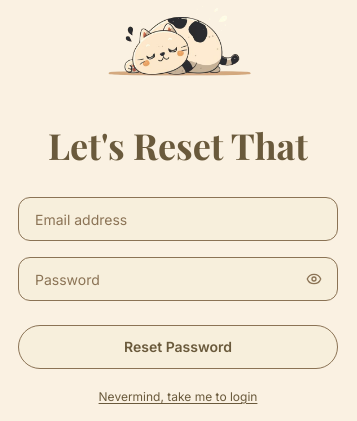
Test: AuthScreen — reset mode › submits email + new password to resetPassword and shows confirmation
The width and height of the screenshot is (357, 421).
Expected: the heading "Let's Reset That" is shown, [48,121,308,169]
Type "ada@example.com" into the field with placeholder "Email address". click: coordinates (178, 219)
box: [18,197,338,241]
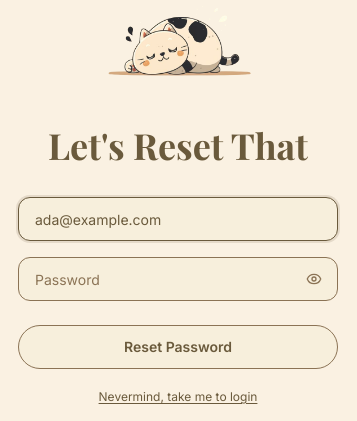
Type "fresh-horse-7" into the password field with placeholder "Password". click: coordinates (178, 279)
box: [18,257,338,301]
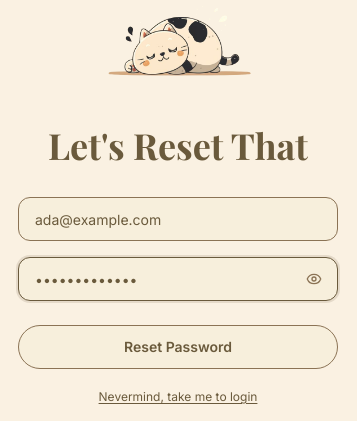
Click the button "Reset Password". click: coordinates (178, 347)
box: [18,325,338,369]
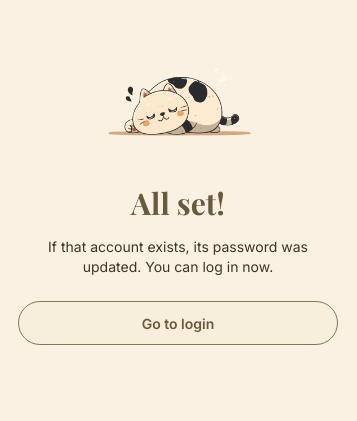
Expected: the heading "All set!" is shown, [131,183,225,223]
